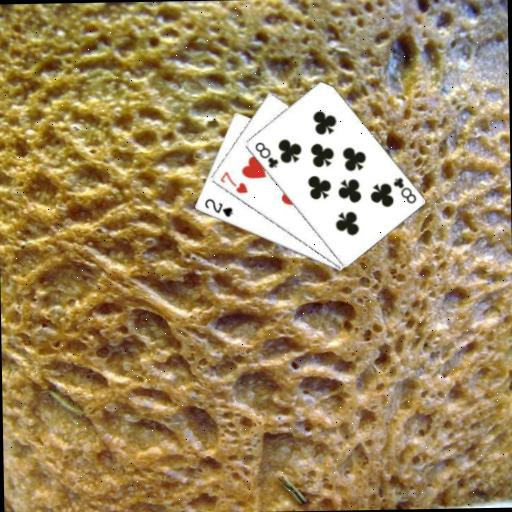2S: (201, 195, 234, 219)
7H: (217, 168, 249, 196)
8C: (251, 139, 280, 171), (390, 174, 418, 206)
